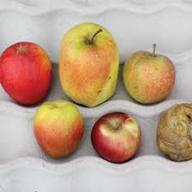apple: (62, 28, 131, 106), (122, 47, 184, 101), (34, 99, 86, 161), (0, 42, 54, 98), (92, 115, 144, 164), (154, 100, 192, 160)
